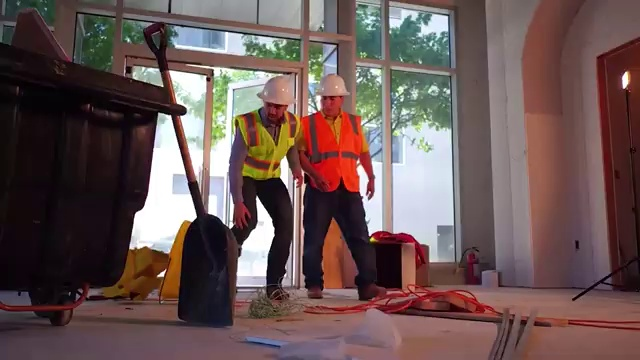helmet: (254, 71, 296, 108), (312, 71, 349, 104)
jacket: (300, 106, 372, 197), (236, 110, 310, 188)
